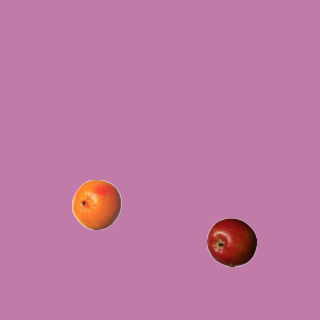Apple Braeburn: (206, 217, 256, 267)
Grapefruit Pink: (71, 179, 121, 229)
